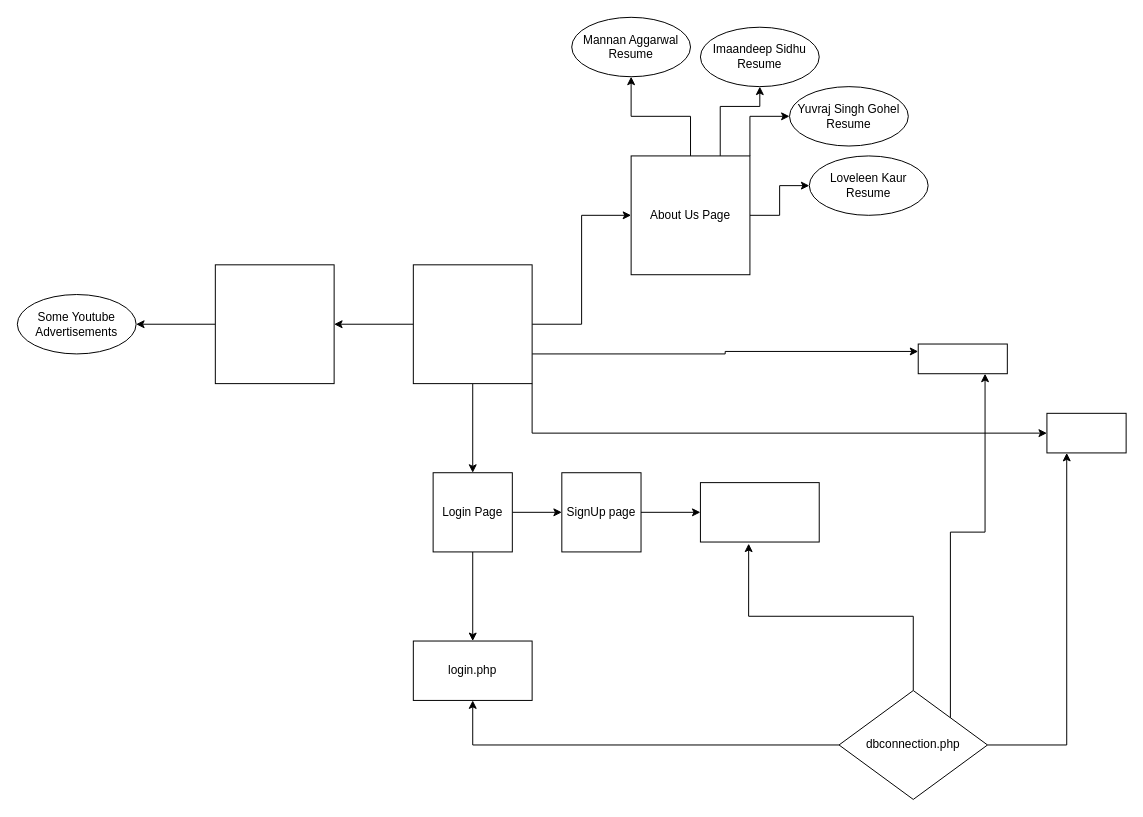
Some shapes in this 1143 by 817 pixel diagram are drawn without their labels. The shapes that lost their labels are listed below. From the top down, each one's box as (x1, y1, x2, y2) in pixels, then its label:
(214, 264, 334, 384): Services and Prices Page
(412, 264, 532, 384): Landing Page (MilyTechnicals)
(917, 343, 1007, 374): newsletter.php
(1046, 412, 1126, 453): contact.php
(699, 482, 819, 542): signup.php
